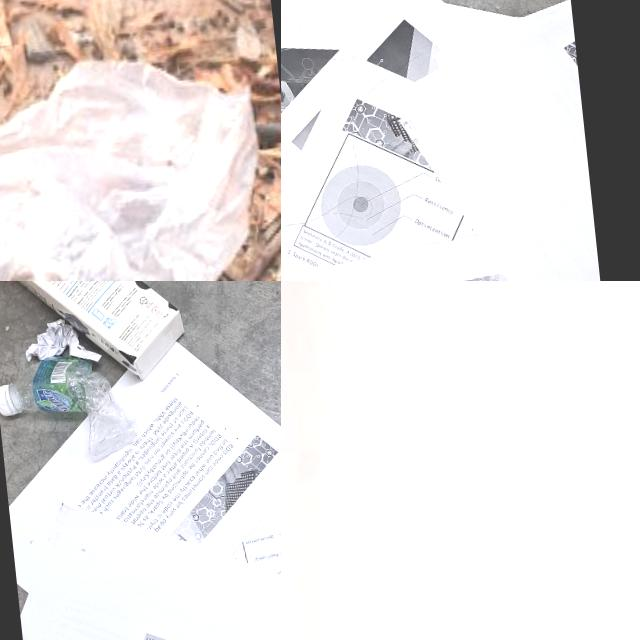caixinha: (0, 281, 189, 395)
garrafa plástica: (6, 350, 139, 467)
papel: (281, 0, 611, 281), (0, 310, 281, 640), (20, 314, 101, 370)
sacola plástica: (281, 281, 528, 640), (0, 13, 281, 281)
tampa plástica: (0, 384, 20, 417)
